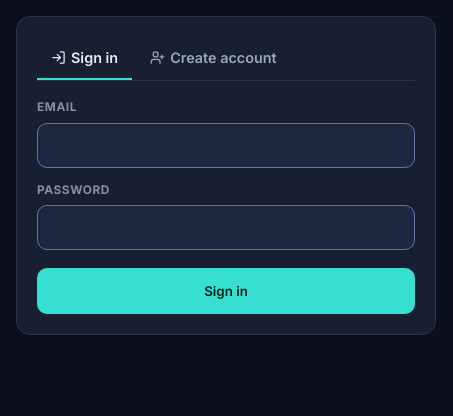
Test: AuthPanel — sign up › shows the rejection reason and stays anonymous on failure
Click the button "Create account" at (213, 58), box [136,37,291,80]
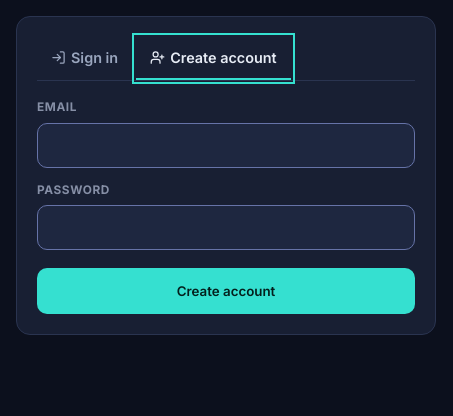
Type "user@example.com" into the field labelled "Email" at (226, 145), box [37,123,415,168]
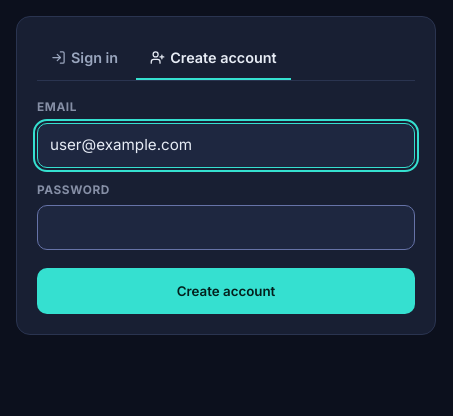
Type "password123" into the password field labelled "Password" at (226, 228), box [37,205,415,250]
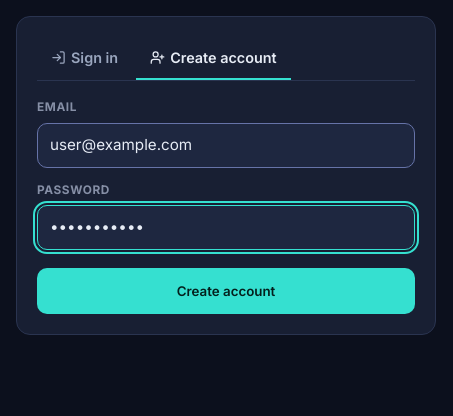
Click the button "Create account" below "Password" at (226, 291), box [37,268,415,314]
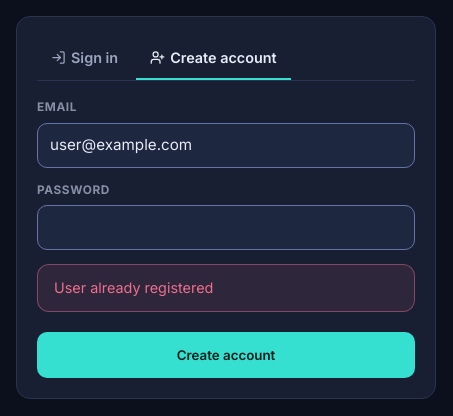
Check: the button "Create account" below "User already registered" is enabled, box [37,332,415,378]
Check: the text "User already registered" is shown, box [37,264,415,312]
